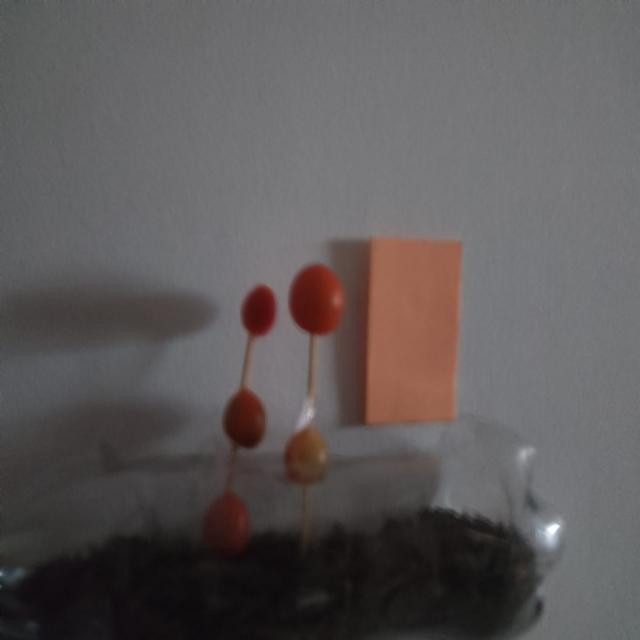card: (364, 238, 461, 425), (365, 238, 461, 424)
fruit_maturation: (203, 491, 250, 556), (284, 426, 327, 485)
fully_grown: (289, 264, 344, 335), (223, 388, 266, 448), (241, 285, 277, 336)
